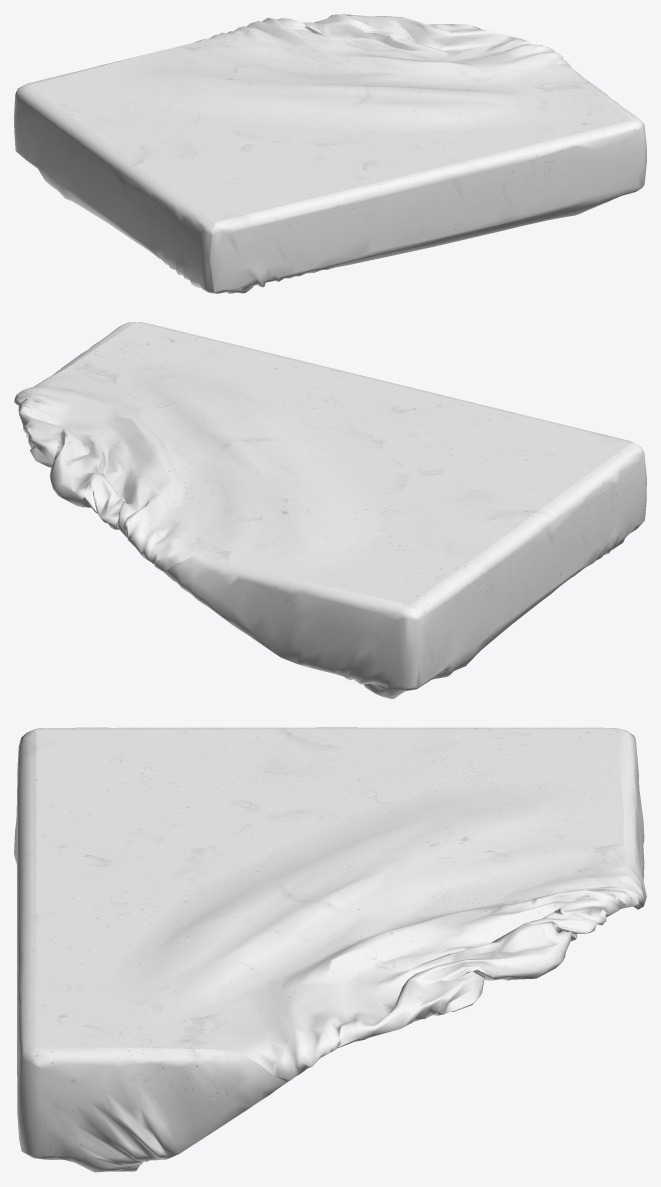
Rendered from SM_Bed_Sheet.fbx.
3 views of the same model, one above another, from view 1: azimuth 30°, elevation 25°; view 2: azimuth 150°, elevation 25°; view 3: azimuth 270°, elevation 25° (orthographic). The views are drawn at different scales.
Parts seen in each view (by area): view 1: SM_Bed_Sheet_LOD0; view 2: SM_Bed_Sheet_LOD0; view 3: SM_Bed_Sheet_LOD0.
Part boxes in pixels (<box>): SM_Bed_Sheet_LOD0: <box>14,14,646,293</box>; SM_Bed_Sheet_LOD0: <box>14,322,646,698</box>; SM_Bed_Sheet_LOD0: <box>14,727,646,1172</box>.
Bounding box in the file's own units: 282 × 222 × 61.36.
